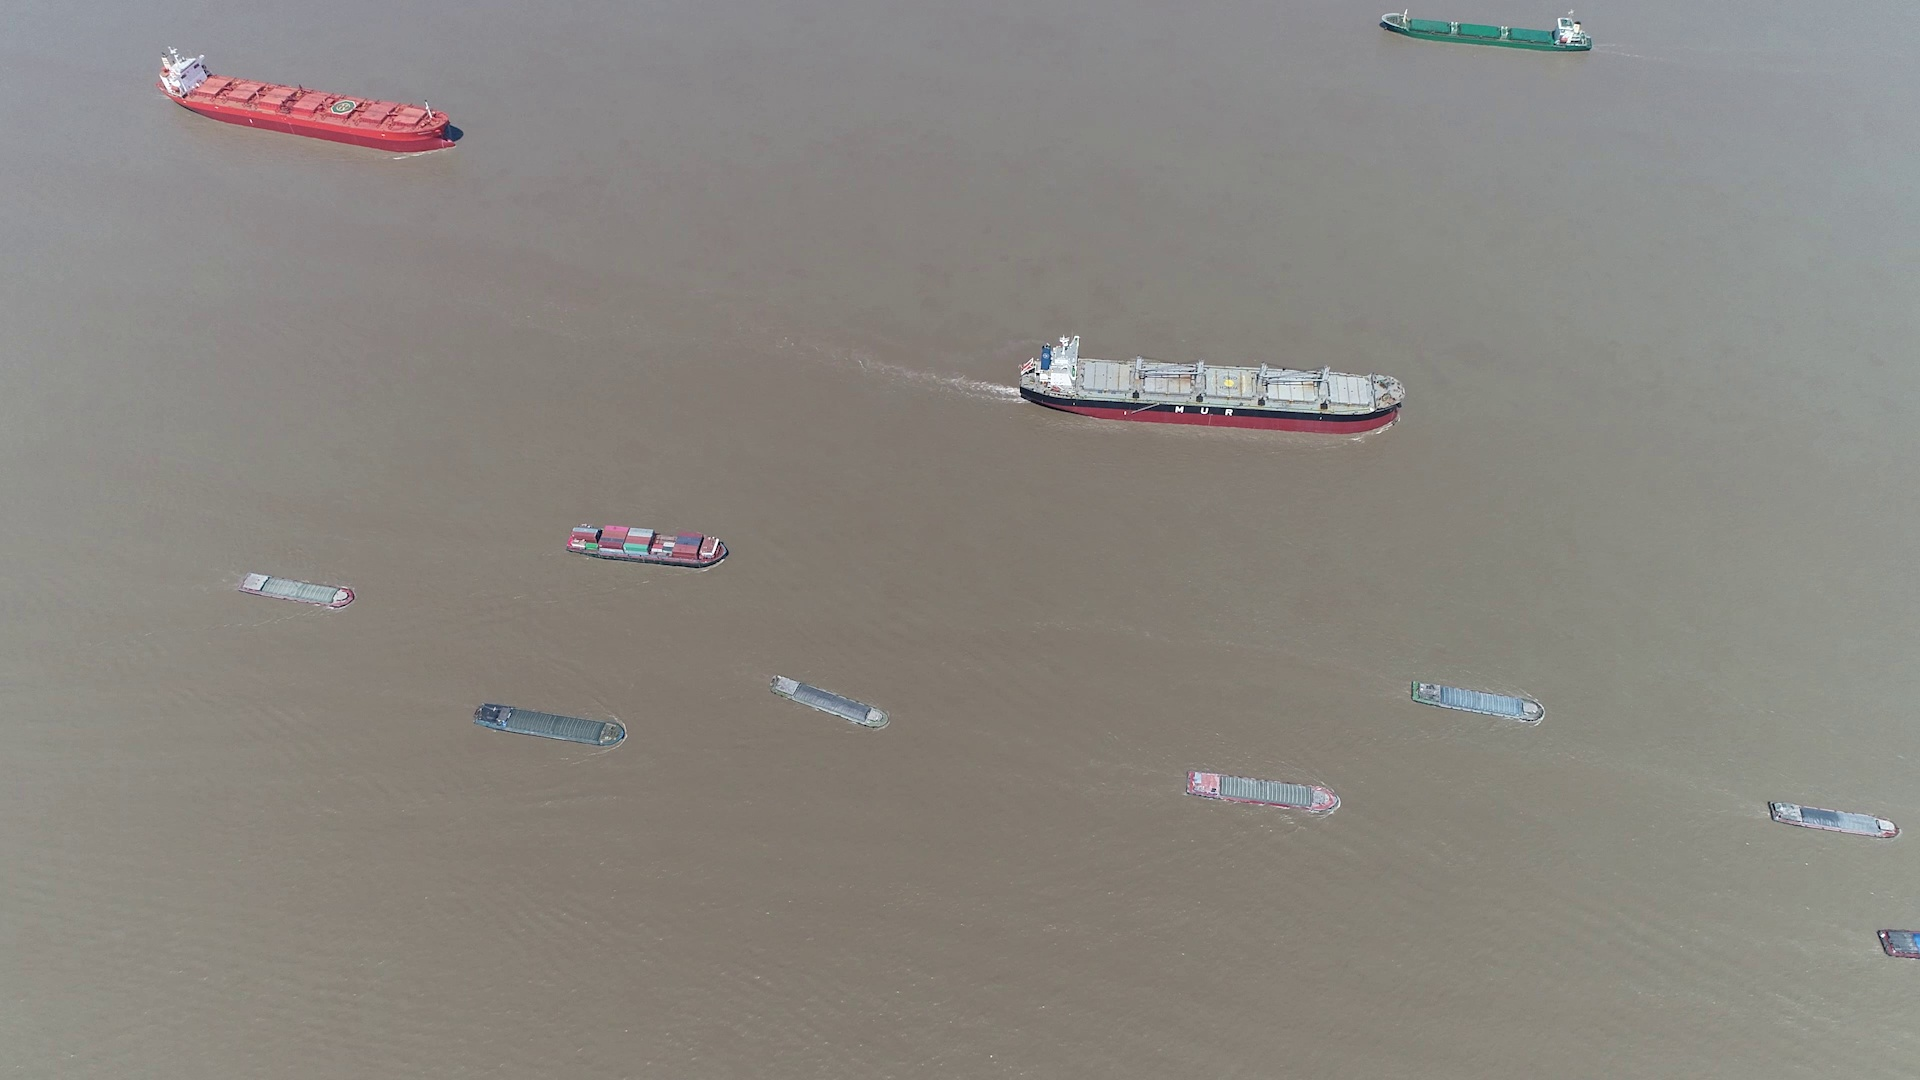ship: (1018, 335, 1404, 435), (160, 46, 458, 152), (1382, 11, 1592, 51), (566, 524, 731, 568), (473, 702, 625, 748), (1187, 770, 1342, 812), (771, 676, 889, 732), (1408, 680, 1547, 724), (1766, 799, 1902, 839), (236, 572, 355, 607), (1879, 928, 1920, 960)
